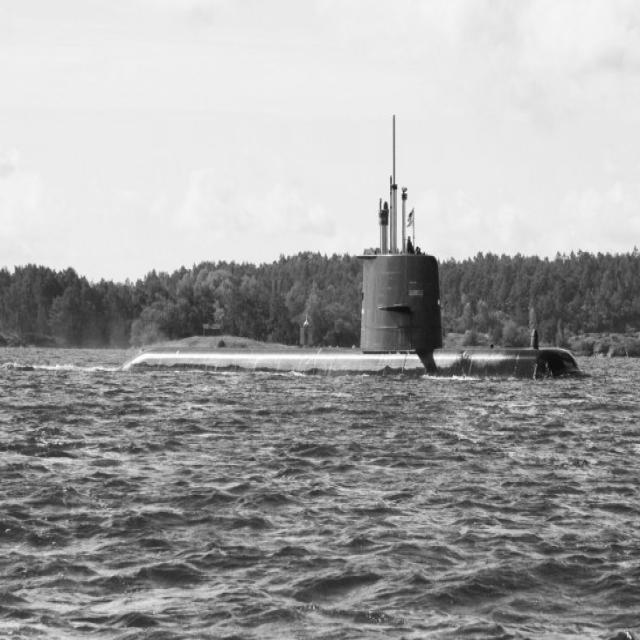submarine: (131, 111, 589, 382)
